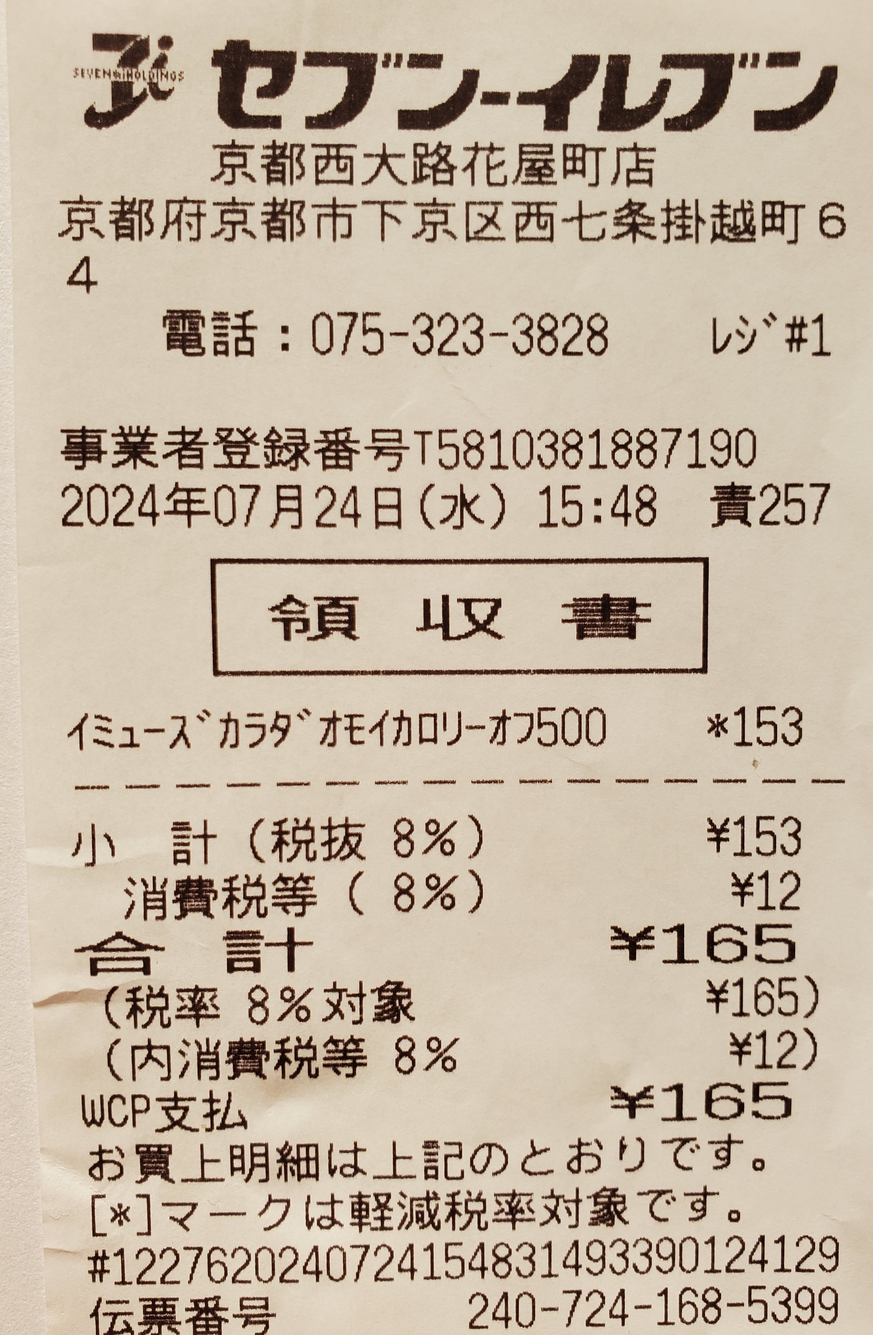Date: (59, 479, 416, 537)
Shopname: (202, 24, 852, 141)
Telnum: (300, 299, 621, 367)
Totalpay: (70, 928, 820, 978)
